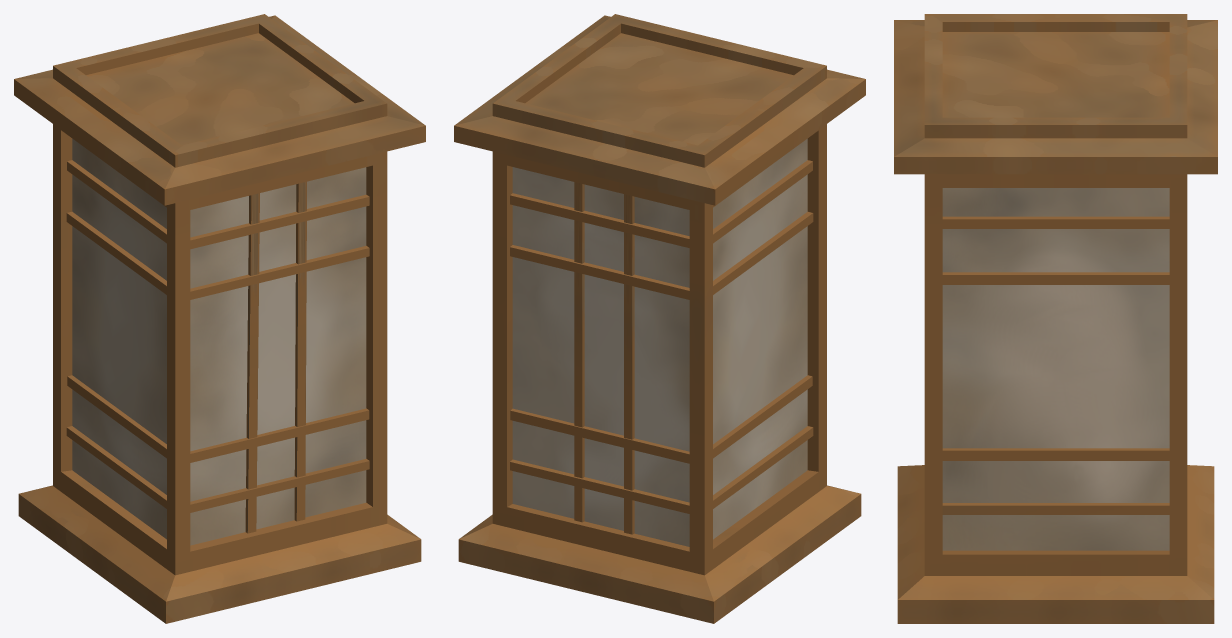
Rendered from Lamp.fbx.
3 views of the same model, side by side, from view 1: azimuth 30°, elevation 25°; view 2: azimuth 150°, elevation 25°; view 3: azimuth 270°, elevation 25° (orthographic). The views are drawn at different scales.
Visible parts, largest first — view 1: Lamp, Paper; view 2: Lamp, Paper; view 3: Lamp, Paper.
Part boxes in pixels (x1=…): Lamp: x1=14, y1=14, x2=425, y2=623; Paper: x1=72, y1=138, x2=366, y2=545; Lamp: x1=454, y1=14, x2=865, y2=623; Paper: x1=512, y1=138, x2=807, y2=546; Lamp: x1=894, y1=14, x2=1217, y2=623; Paper: x1=942, y1=188, x2=1169, y2=550.
Size of the model in its own units: 1184 by 1968 by 1184.
